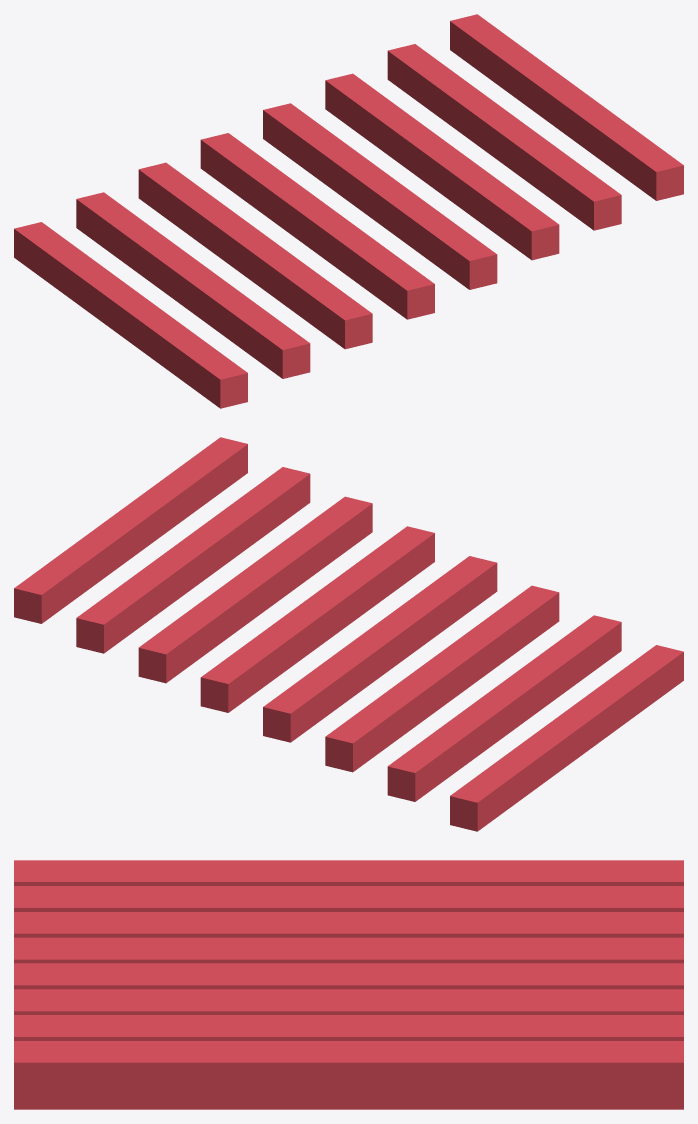
The model's file is stairs.fbx.
The picture shows the model from 3 angles, top to bottom: view 1: azimuth 30°, elevation 25°; view 2: azimuth 150°, elevation 25°; view 3: azimuth 270°, elevation 25°; orthographic projection. The views are drawn at different scales.
Parts seen in each view (by area): view 1: Cube; view 2: Cube; view 3: Cube.
Boxes of the visible parts, x1,y1,x2,y2 form: Cube: (14, 14, 683, 408); Cube: (14, 437, 683, 831); Cube: (14, 860, 683, 1109).
Bounding box in the file's own units: 3350 × 900 × 2585.
